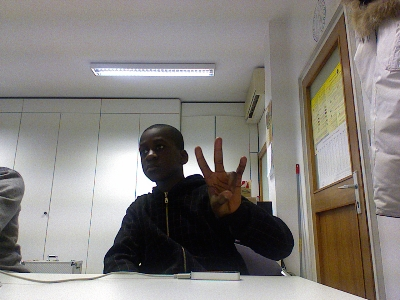观音: (192, 134, 248, 219)
